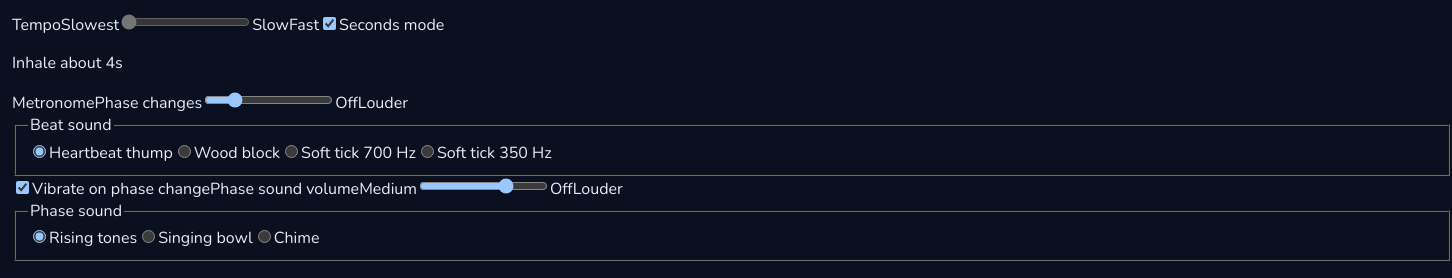
it: seconds mode › brings the tempo slider back when the mode goes off (AC4)
The image size is (1452, 278).
Click the switch labelled "Seconds mode" at (330, 24), box top-left (323, 17), bottom-right (336, 30)
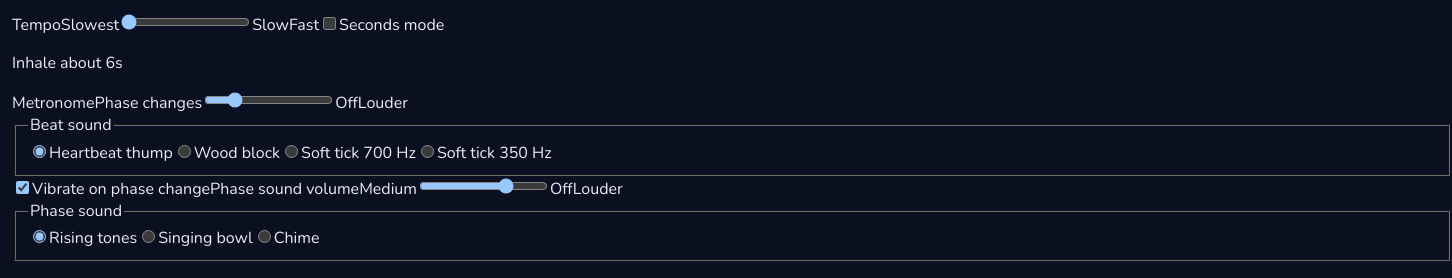
Now the slider labelled "Tempo" is enabled, box top-left (121, 14), bottom-right (250, 30)
